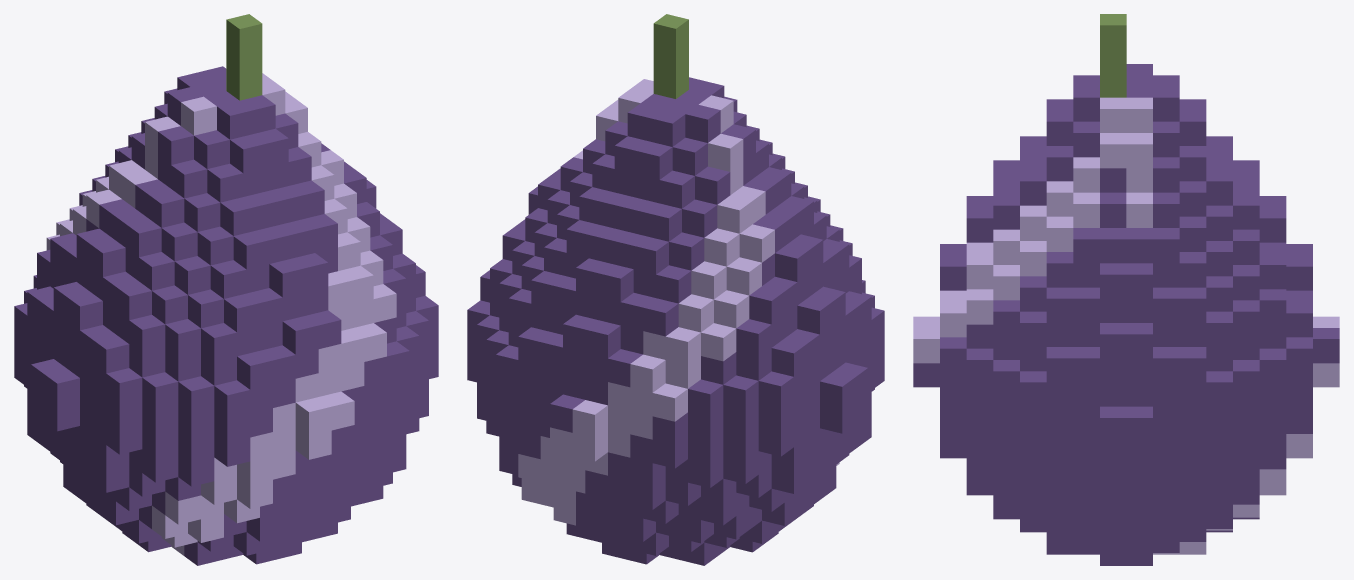
Rendered from rocket.glb.
3 renders of one model, left to right at view 1: azimuth 30°, elevation 25°; view 2: azimuth 150°, elevation 25°; view 3: azimuth 270°, elevation 25°, orthographic. The views are drawn at different scales.
Visible parts, largest first — view 1: akuma_rocket; view 2: akuma_rocket; view 3: akuma_rocket.
Boxes of the visible parts, x1,y1,x2,y2 form: akuma_rocket: (14, 14, 438, 565); akuma_rocket: (467, 14, 884, 565); akuma_rocket: (913, 14, 1339, 565).
Bounding box in the file's own units: 0.416 × 0.572 × 0.416.
1 material, 1 textured.
